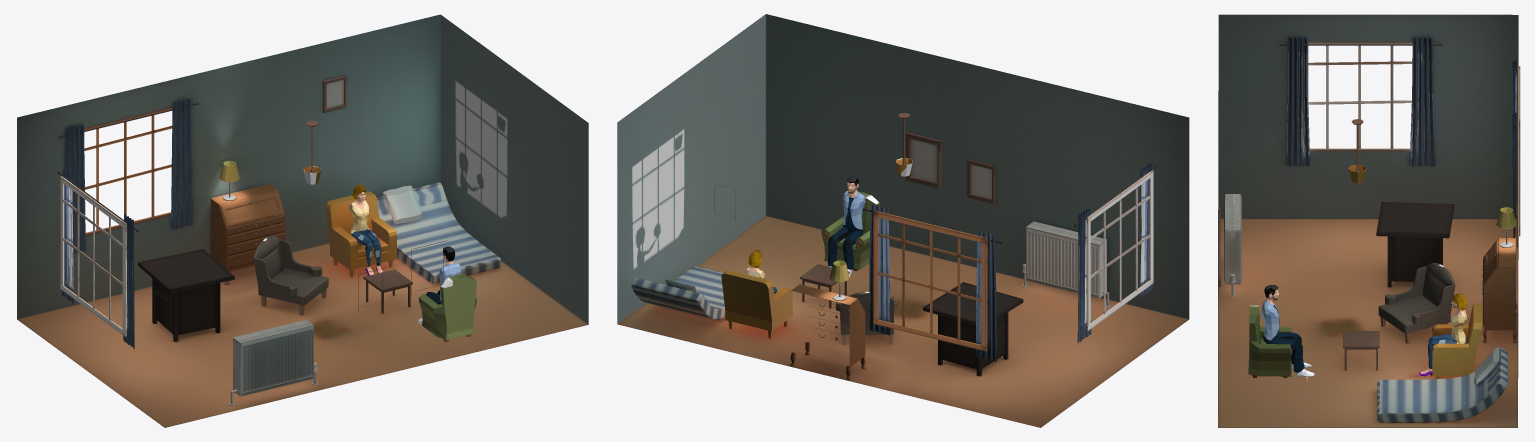
The model's file is Characters&Hands7.glb.
The picture shows the model from 3 angles, left to right: view 1: azimuth 30°, elevation 25°; view 2: azimuth 150°, elevation 25°; view 3: azimuth 270°, elevation 25°; orthographic projection.
Visible parts, largest first — view 1: murs, sol, lit, Table haute, Radiator, commode, petit fauteuil bas, armchair, window1, fauteuil vert.001, rideaux_d.001, window2 (+8 smaller); view 2: murs, sol, window2, Radiator, Table haute, armchair, window1, lit, rideaux_d.001, commode, rideaux_g.001, lpMaleG (+7 smaller); view 3: murs, sol, lit, Table haute, petit fauteuil bas, commode, rideaux_d, rideaux_g, window1, armchair, fauteuil vert.001, Radiator (+9 smaller).
Part boxes in pixels (x1=…): murs: x1=17, y1=14, x2=588, y2=324; sol: x1=17, y1=243, x2=588, y2=427; lit: x1=377, y1=182, x2=501, y2=283; Table haute: x1=138, y1=249, x2=234, y2=341; Radiator: x1=229, y1=319, x2=317, y2=405; commode: x1=210, y1=184, x2=284, y2=284; petit fauteuil bas: x1=253, y1=236, x2=328, y2=315; armchair: x1=326, y1=191, x2=396, y2=277; window1: x1=60, y1=176, x2=126, y2=336; fauteuil vert.001: x1=418, y1=274, x2=476, y2=342; rideaux_d.001: x1=171, y1=98, x2=192, y2=229; window2: x1=84, y1=107, x2=172, y2=235; murs: x1=617, y1=14, x2=1189, y2=323; sol: x1=617, y1=216, x2=1188, y2=427; window2: x1=873, y1=210, x2=987, y2=351; Radiator: x1=1022, y1=221, x2=1110, y2=307; Table haute: x1=923, y1=282, x2=1023, y2=376; armchair: x1=721, y1=270, x2=792, y2=338; window1: x1=1086, y1=170, x2=1153, y2=331; lit: x1=631, y1=266, x2=725, y2=319; rideaux_d.001: x1=869, y1=203, x2=890, y2=335; commode: x1=790, y1=284, x2=865, y2=379; rideaux_g.001: x1=975, y1=229, x2=996, y2=362; lpMaleG: x1=828, y1=176, x2=865, y2=276; murs: x1=1218, y1=14, x2=1518, y2=413; sol: x1=1218, y1=218, x2=1518, y2=427; lit: x1=1377, y1=347, x2=1507, y2=422; Table haute: x1=1376, y1=202, x2=1454, y2=287; petit fauteuil bas: x1=1378, y1=263, x2=1455, y2=343; commode: x1=1481, y1=238, x2=1516, y2=343; rideaux_d: x1=1409, y1=37, x2=1435, y2=166; rideaux_g: x1=1286, y1=37, x2=1310, y2=166; window1: x1=1308, y1=41, x2=1412, y2=151; armchair: x1=1432, y1=304, x2=1482, y2=378; fauteuil vert.001: x1=1248, y1=305, x2=1292, y2=377; Radiator: x1=1224, y1=194, x2=1241, y2=297.
Bounding box in the file's own units: 7.18 × 3.27 × 4.37.
Materials: 33 (26 with a texture image).
